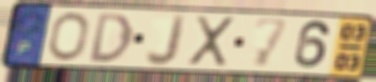6: (292, 19, 331, 72)
7: (252, 16, 289, 71)
D: (88, 11, 135, 64)
J: (143, 12, 189, 69)
O: (47, 11, 91, 63)
X: (186, 15, 237, 68)
